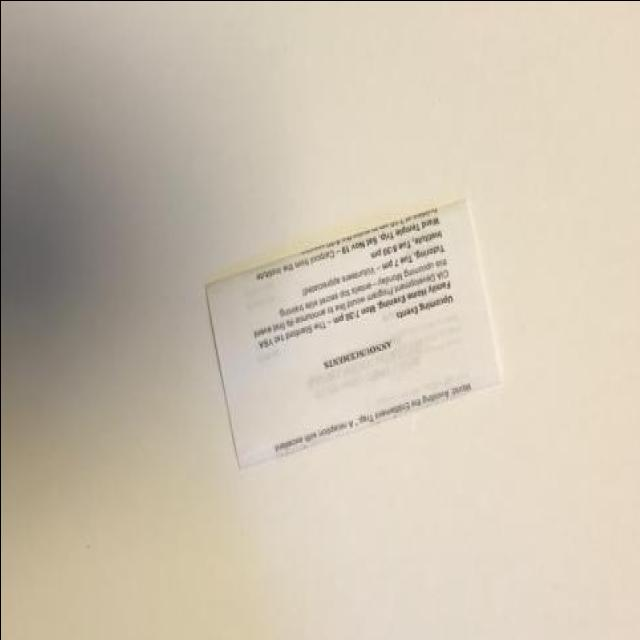kertas: (203, 194, 503, 472)
